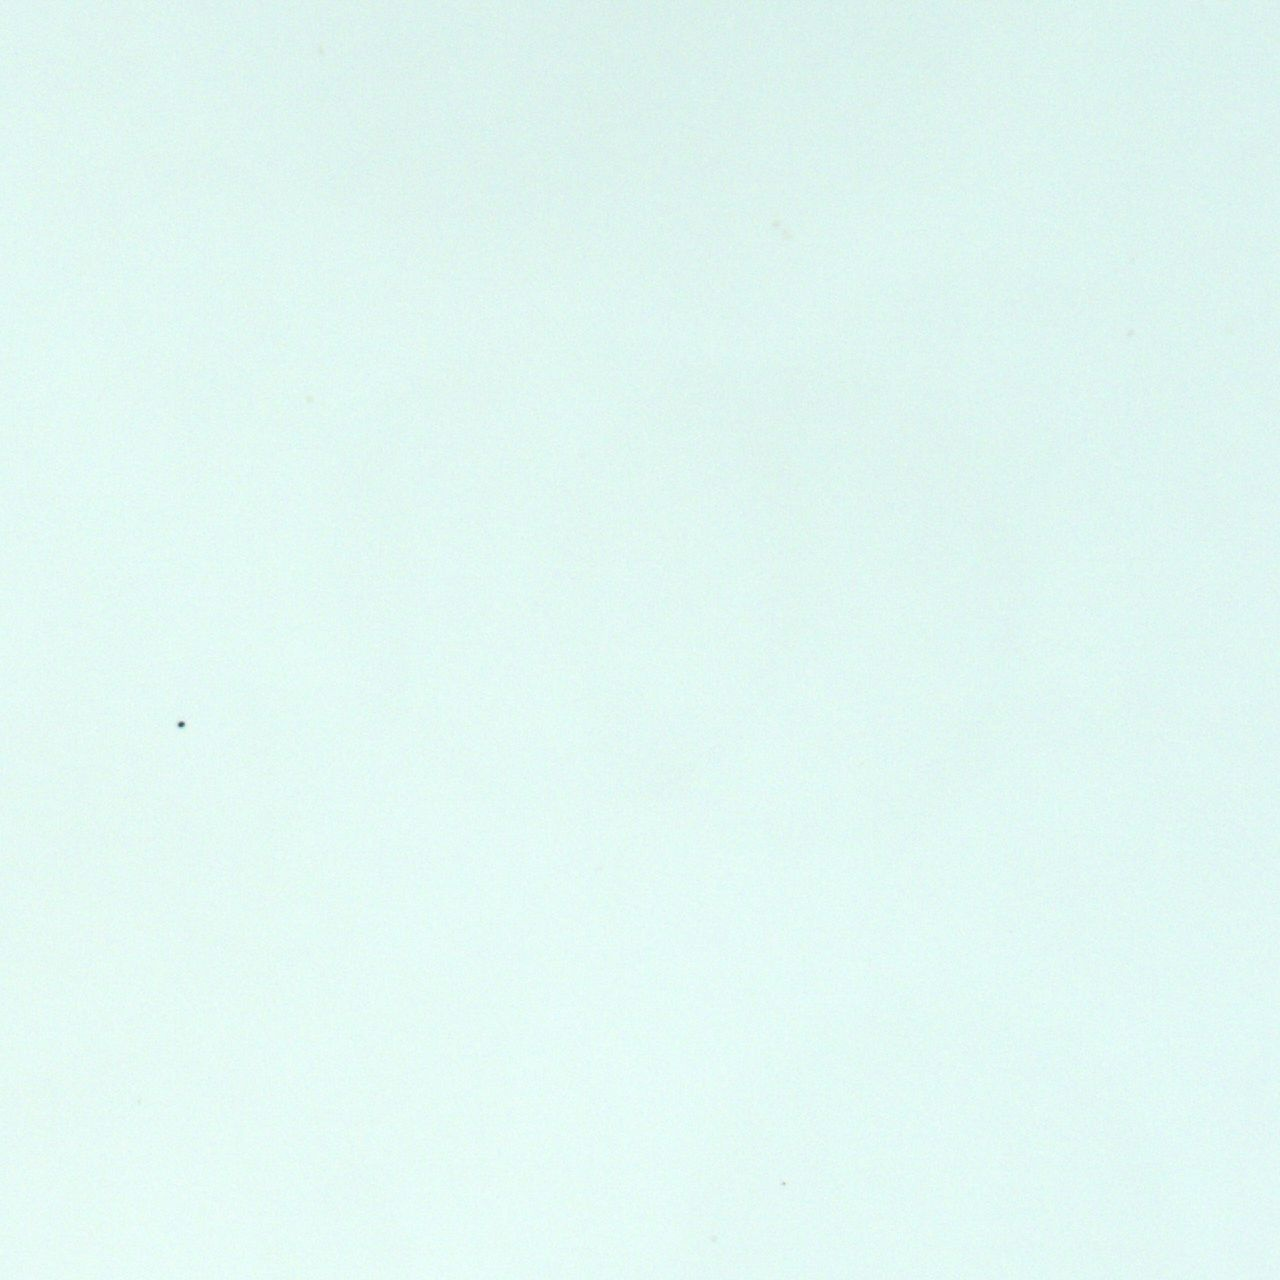dust: (178, 721, 185, 728)
